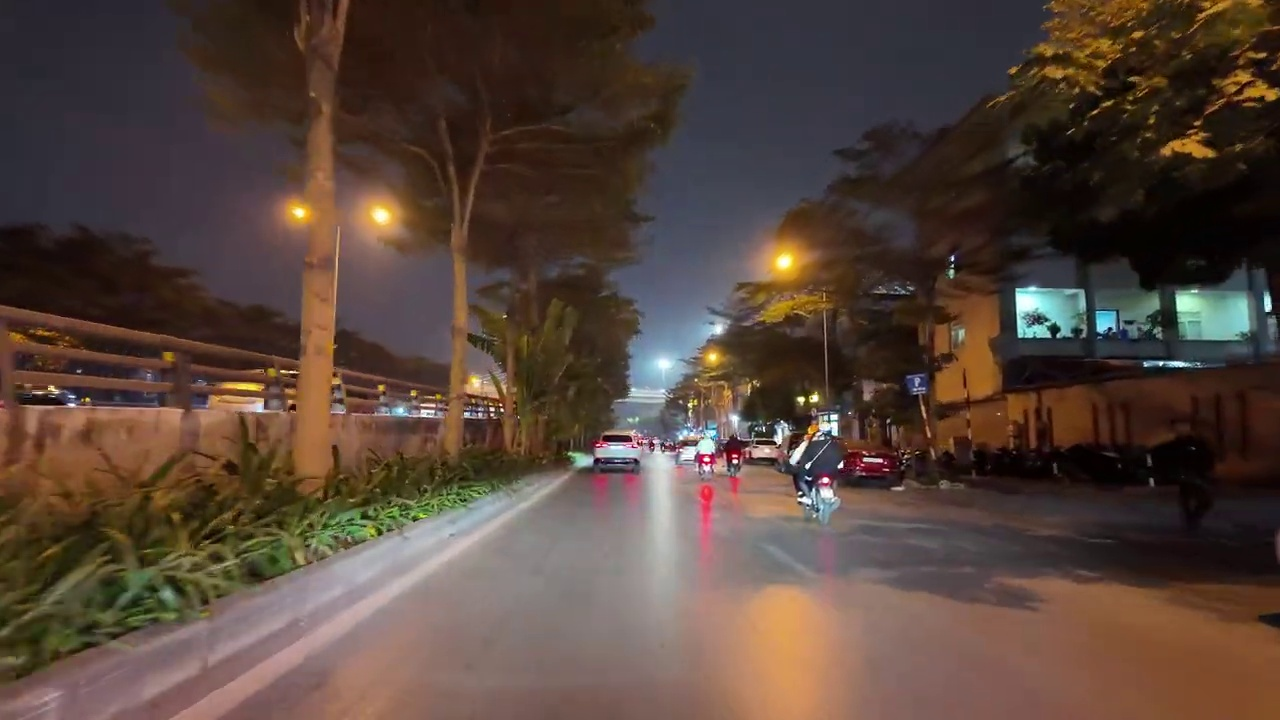acesa: (361, 198, 402, 236), (767, 244, 804, 280), (285, 198, 320, 230)
